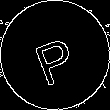P_N: (29, 25, 81, 85)
